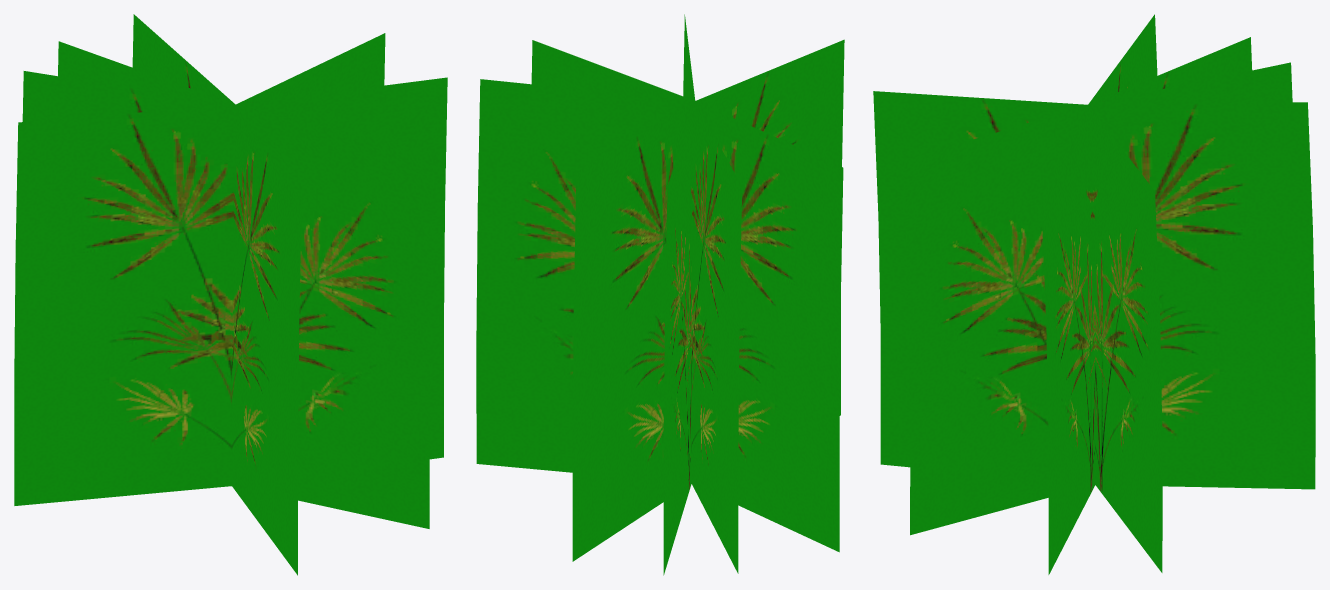
The model's file is grs_weed02.static.glb.
3 renders of one model, left to right at view 1: azimuth 30°, elevation 25°; view 2: azimuth 150°, elevation 25°; view 3: azimuth 270°, elevation 25°, orthographic.
Visible parts, largest first — view 1: grs_weed02; view 2: grs_weed02; view 3: grs_weed02.
Boxes of the visible parts, x1=… form: grs_weed02: x1=14, y1=14, x2=447, y2=575; grs_weed02: x1=476, y1=14, x2=844, y2=575; grs_weed02: x1=873, y1=14, x2=1315, y2=574.
Size of the model in its own units: 2.01 by 2.02 by 2.09.
1 material, 1 textured.
